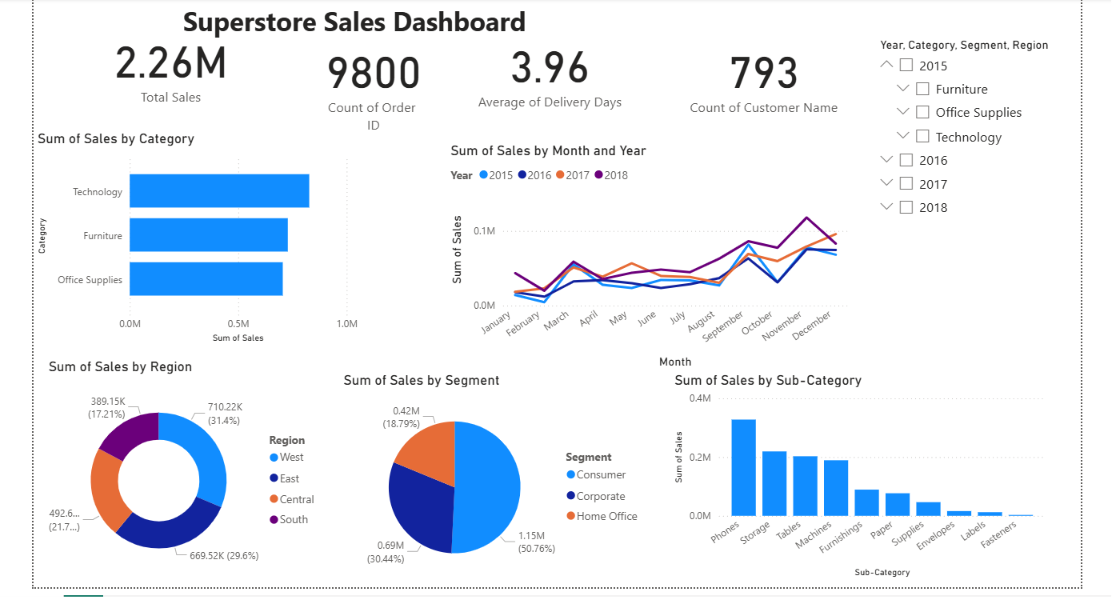

The page's visual inventory and layout, read from the dashboard file:
{"tool":"powerbi","page":{"name":"Page 1","canvas":[1280,720],"ordinal":0},"visuals":[{"type":"card","fields":{"Values":["Count(updated_train.Customer Name)"]},"box":[753.3,0,279.9,189.4],"z":0},{"type":"card","fields":{"Values":["Avg(updated_train.Delivery Days)"]},"box":[491.3,0,279.9,175.6],"z":1000},{"type":"card","fields":{"Values":["Sum(updated_train.Sales)"]},"box":[28.6,2.9,280,158.6],"z":2000},{"type":"lineChart","fields":{"Y":["Sum(updated_train.Sales)"],"Category":["updated_train.Order Date.Variation.Date Hierarchy.Month"],"Series":["updated_train.Order Date.Variation.Date Hierarchy.Year"]},"box":[505,175.6,495.4,281.3],"z":3000},{"type":"donutChart","fields":{"Category":["updated_train.Region"],"Y":["Sum(updated_train.Sales)"]},"box":[13.7,440.5,344.4,279.9],"z":4000},{"type":"pieChart","fields":{"Category":["updated_train.Segment"],"Y":["Sum(updated_train.Sales)"]},"box":[374.6,455.6,378.7,264.8],"z":5000},{"type":"clusteredColumnChart","fields":{"Category":["updated_train.Sub-Category"],"Y":["Sum(updated_train.Sales)"]},"box":[779.4,455.6,463.8,256.6],"z":6000},{"type":"slicer","fields":{"Values":["updated_train.Order Date.Variation.Date Hierarchy.Year","updated_train.Category","updated_train.Segment","updated_train.Region"]},"box":[1022.3,42.5,258,238.8],"z":7000},{"type":"card","fields":{"Values":["CountNonNull(updated_train.Order ID)"]},"box":[341.7,0,149.6,189.4],"z":8000},{"type":"clusteredBarChart","fields":{"Category":["updated_train.Category"],"Y":["Sum(updated_train.Sales)"]},"box":[0,161.9,402.1,264.8],"z":9000},{"type":"textbox","box":[168.6,1.4,485.7,54.3],"z":10000}]}

Visuals, with their boxes on the page's 1280x720 design canvas (x1, y1, x2, y2). These are canvas units, not pixel positions in the 1112x597 screenshot, which may show the page scaled, cropped or inside an application window:
card - Count(updated_train.Customer Name): left=753, top=0, right=1033, bottom=189
card - Avg(updated_train.Delivery Days): left=491, top=0, right=771, bottom=176
card - Sum(updated_train.Sales): left=29, top=3, right=309, bottom=162
lineChart - Sum(updated_train.Sales) x updated_train.Order Date.Variation.Date Hierarchy.Month: left=505, top=176, right=1000, bottom=457
donutChart - updated_train.Region x Sum(updated_train.Sales): left=14, top=440, right=358, bottom=720
pieChart - updated_train.Segment x Sum(updated_train.Sales): left=375, top=456, right=753, bottom=720
clusteredColumnChart - updated_train.Sub-Category x Sum(updated_train.Sales): left=779, top=456, right=1243, bottom=712
slicer - updated_train.Order Date.Variation.Date Hierarchy.Year x updated_train.Category: left=1022, top=42, right=1280, bottom=281
card - CountNonNull(updated_train.Order ID): left=342, top=0, right=491, bottom=189
clusteredBarChart - updated_train.Category x Sum(updated_train.Sales): left=0, top=162, right=402, bottom=427
textbox: left=169, top=1, right=654, bottom=56
